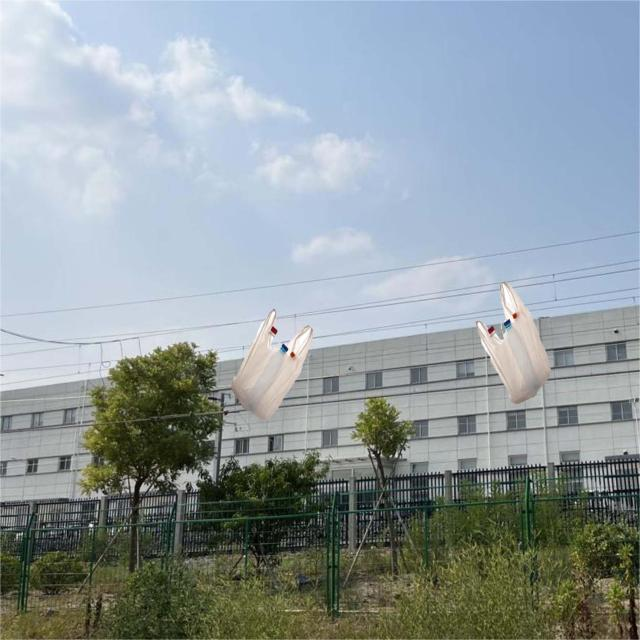plastic bag: (474, 285, 555, 404), (229, 315, 310, 424)
